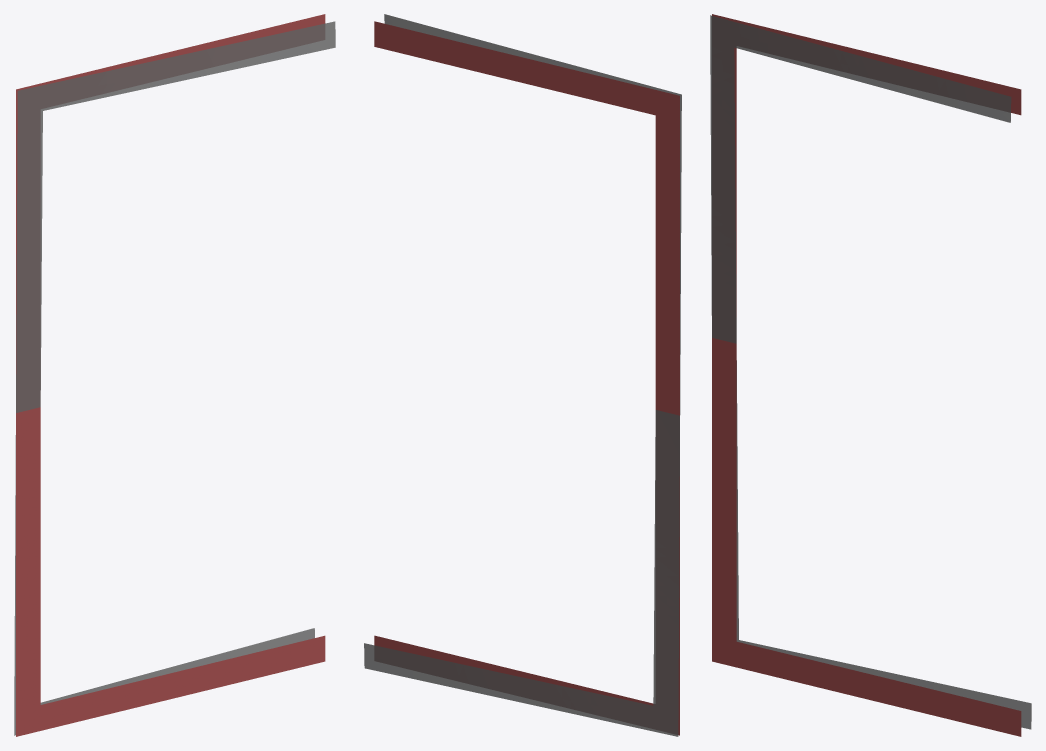
The model's file is warping-cold-formed-u-100-50-4-0-0-383.glb.
3 renders of one model, left to right at view 1: azimuth 30°, elevation 25°; view 2: azimuth 150°, elevation 25°; view 3: azimuth 330°, elevation 25°, orthographic.
Visible parts, largest first — view 1: undeformed cross-section, cross-section with warping; view 2: undeformed cross-section, cross-section with warping; view 3: undeformed cross-section, cross-section with warping.
Part boxes in pixels (left/top/right/bottom): undeformed cross-section: left=16, top=14, right=325, bottom=736; cross-section with warping: left=14, top=21, right=335, bottom=735; undeformed cross-section: left=374, top=21, right=679, bottom=735; cross-section with warping: left=364, top=14, right=681, bottom=736; undeformed cross-section: left=712, top=14, right=1021, bottom=736; cross-section with warping: left=710, top=15, right=1031, bottom=729.
Bounding box in the file's own units: 0.05 × 0.1 × 0.00589.
